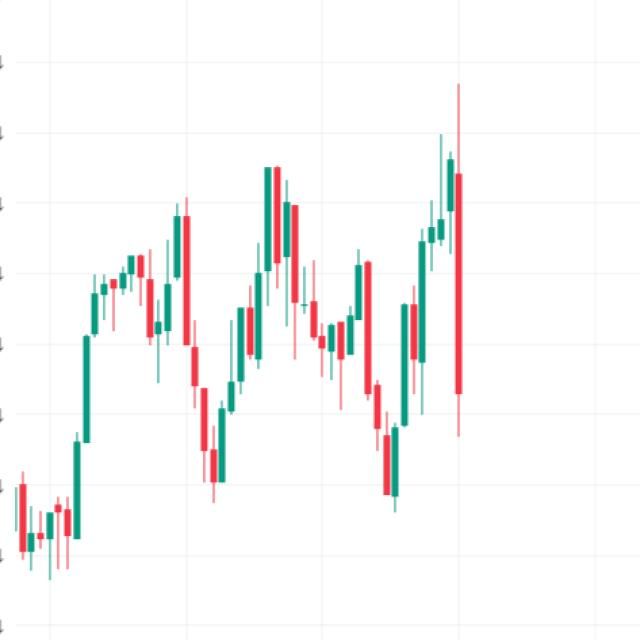Triple-Top: (44, 163, 478, 503)
